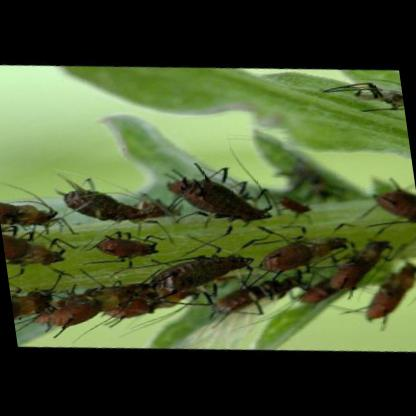uroleucon compositae: (148, 234, 255, 305), (163, 162, 275, 221), (51, 172, 152, 222), (255, 225, 348, 272)
